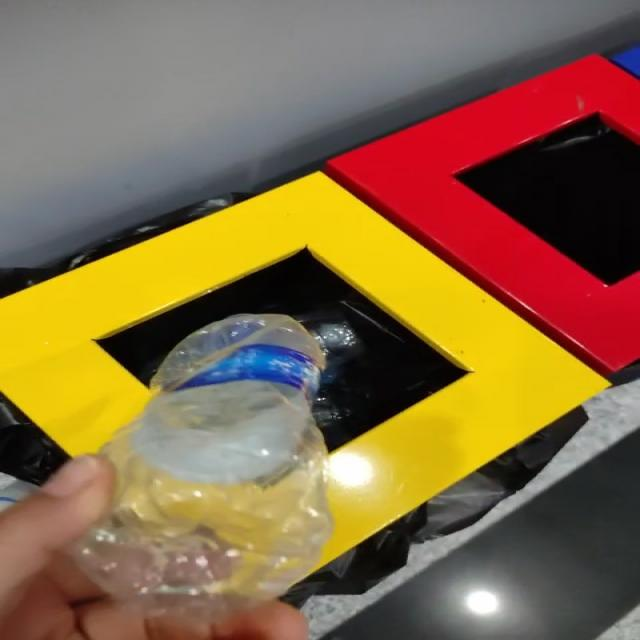plastic: (75, 315, 333, 640)
